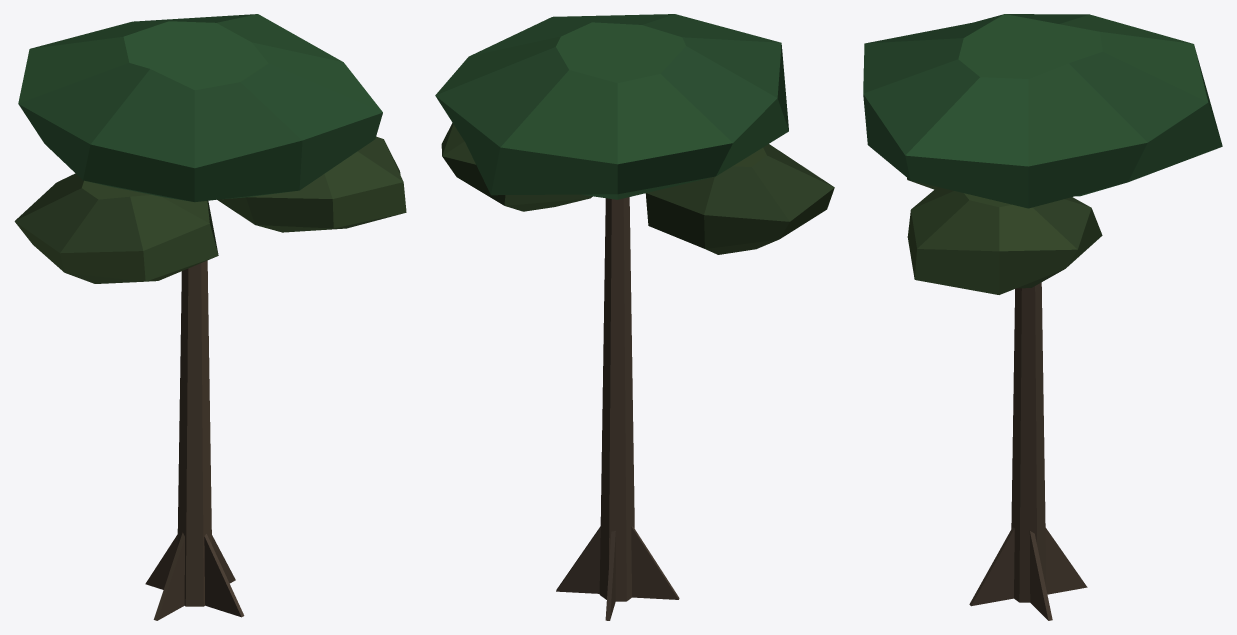
File: jungle_tree.glb
3 renders of one model, left to right at view 1: azimuth 30°, elevation 25°; view 2: azimuth 150°, elevation 25°; view 3: azimuth 270°, elevation 25°, orthographic.
Parts seen in each view (by area): view 1: jungle_tree; view 2: jungle_tree; view 3: jungle_tree.
Part boxes in pixels (x1,y1,x2,y2): jungle_tree: (14,14,406,620); jungle_tree: (435,14,834,620); jungle_tree: (863,14,1222,620).
Bounding box in the file's own units: 7.49 × 10.8 × 6.35.
Materials: 1 (1 with a texture image).
